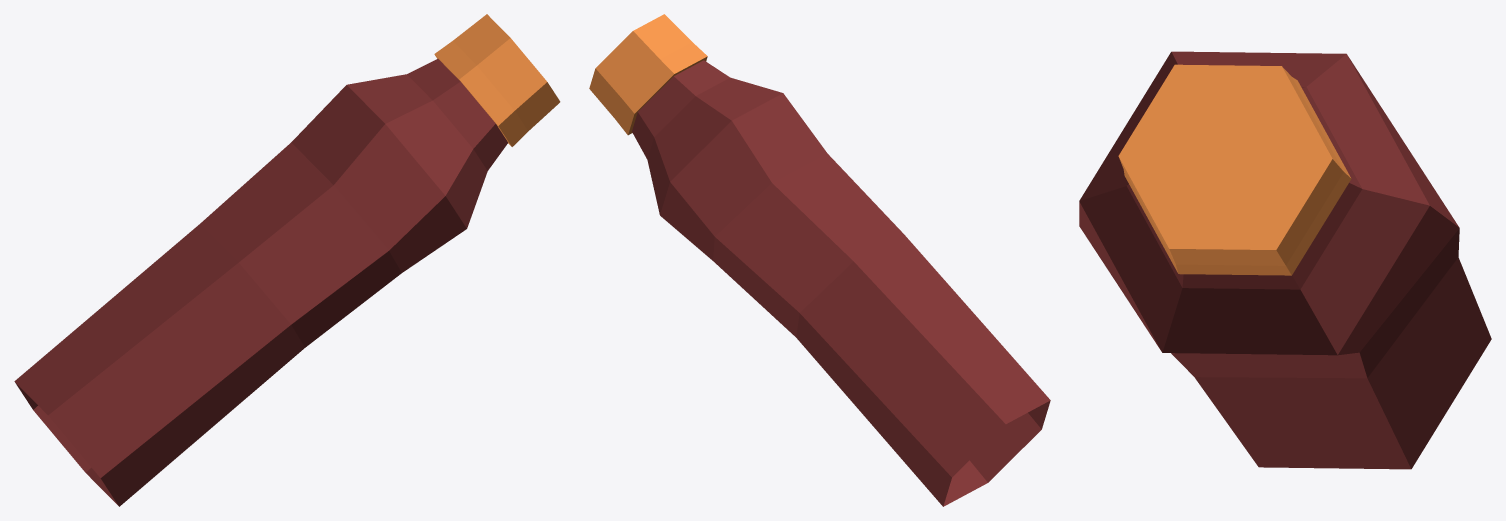
Rendered from Gym_Bottle_2.fbx.
3 views of the same model, side by side, from view 1: azimuth 30°, elevation 25°; view 2: azimuth 150°, elevation 25°; view 3: azimuth 270°, elevation 25° (orthographic). The views are drawn at different scales.
Parts seen in each view (by area): view 1: Gym_Bottle_2; view 2: Gym_Bottle_2; view 3: Gym_Bottle_2.
Part boxes in pixels (<box>): Gym_Bottle_2: <box>14,14,560,506</box>; Gym_Bottle_2: <box>589,14,1050,506</box>; Gym_Bottle_2: <box>1079,51,1491,469</box>.
Bounding box in the file's own units: 35.47 × 27.4 × 13.8.
